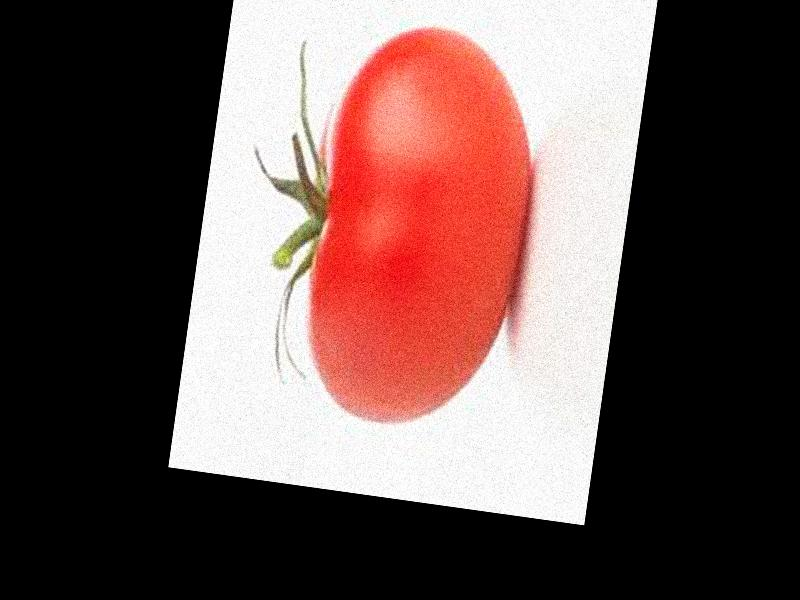Tomato: (291, 15, 550, 435)
